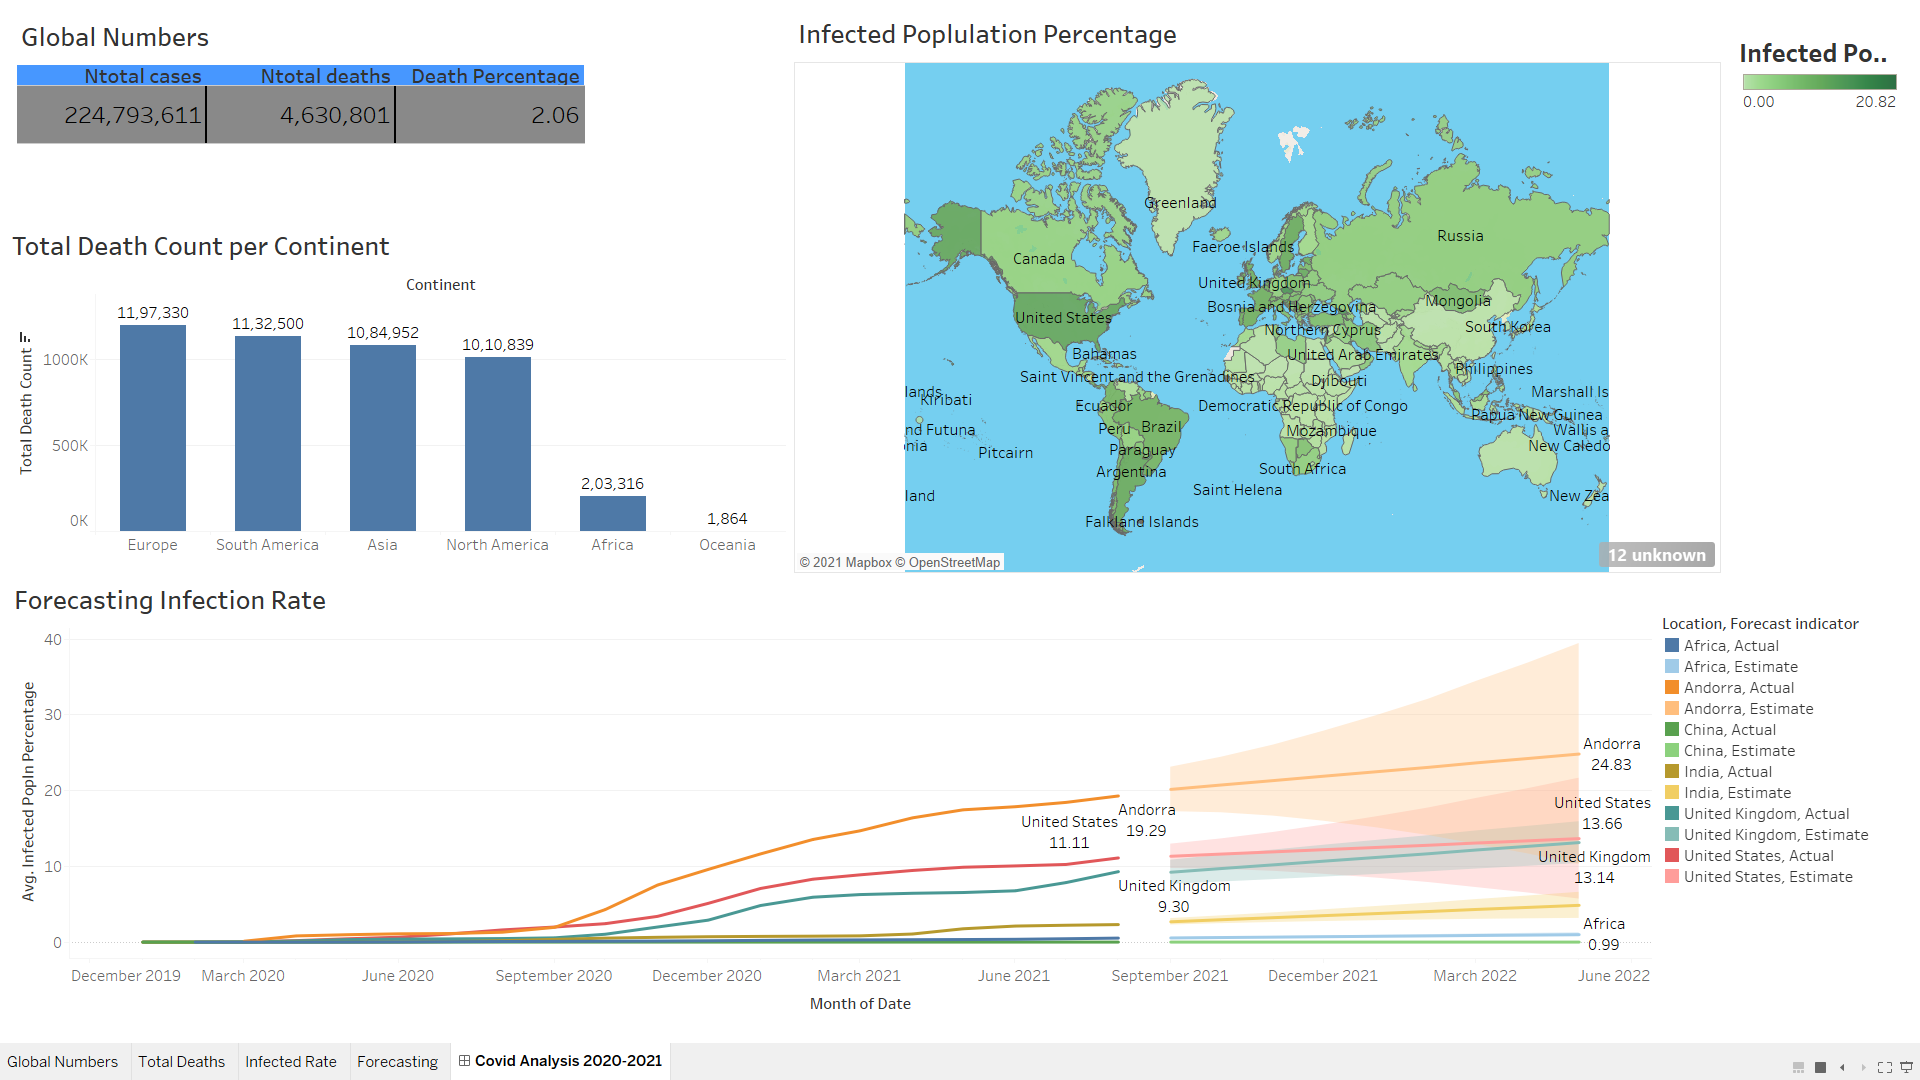

What the dashboard file says about the page in this screenshot:
{"tool":"tableau","page":{"name":"Covid Analysis 2020-2021","canvas":[1000,1000],"units":"permille","ordinal":0},"visuals":[{"type":"worksheet","title":"Infected Rate","mark":"Automatic","box":[413.4,11.6,482.8,537.8]},{"type":"worksheet","title":"Global Numbers","mark":"Automatic","box":[9.1,13.9,396.5,189.3]},{"type":"legend","title":"Infected Rate","param":"[federated.0zw65yh0tktpnh1dyw6wm128z2bg].[sum:Infected_Popln_Percentage:qk]","box":[905.9,33.7,84.5,132.4]},{"type":"worksheet","title":"Total Deaths","mark":"Automatic","rows":["TotalDeathCount"],"cols":["location"],"box":[4.2,214.9,404.9,318.2]},{"type":"worksheet","title":"Forecasting","mark":"Automatic","rows":["Infected_Popln_Percentage"],"cols":["date"],"box":[5.4,554,855.2,435.5]},{"type":"legend","title":"Forecasting","param":"[federated.04z0vcf0nysb8318301zf1fv1hb2].[none:Location:nk]\n[federated.04z0vcf0n","box":[865.4,587.7,127.9,318.2]}]}

Visuals, with their boxes on the dashboard's canvas, which has no fixed pixel size, in thousandths of its width and height (x1, y1, x2, y2). These are canvas units, not pixel positions in the 1920x1080 screenshot, which may show the page scaled, cropped or inside an application window:
"Infected Rate" worksheet: 413,12,896,549
"Global Numbers" worksheet: 9,14,406,203
"Infected Rate" legend: 906,34,990,166
"Total Deaths" worksheet: 4,215,409,533
"Forecasting" worksheet: 5,554,861,990
"Forecasting" legend: 865,588,993,906
